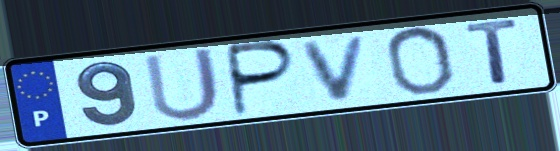9: (71, 57, 142, 130)
O: (382, 23, 458, 97)
P: (227, 38, 301, 119)
T: (462, 16, 524, 86)
U: (140, 44, 225, 124)
V: (298, 31, 374, 104)
